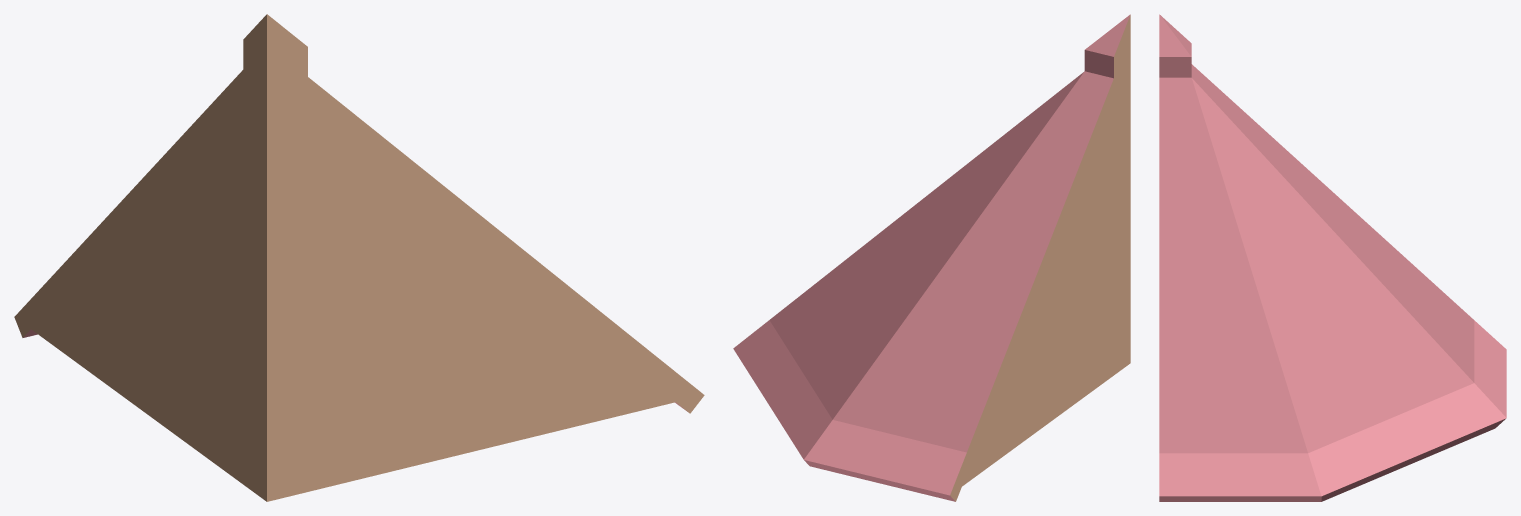
The model's file is roofHighCornerRound.glb.
The picture shows the model from 3 angles, left to right: view 1: azimuth 30°, elevation 25°; view 2: azimuth 150°, elevation 25°; view 3: azimuth 270°, elevation 25°; orthographic projection. The views are drawn at different scales.
Visible parts, largest first — view 1: roofHighCornerRound; view 2: roofHighCornerRound; view 3: roofHighCornerRound.
Boxes of the visible parts, <box> form: roofHighCornerRound: <box>14,14,704,501</box>; roofHighCornerRound: <box>733,14,1130,501</box>; roofHighCornerRound: <box>1159,14,1506,501</box>.
Size of the model in its own units: 1.07 by 1.18 by 1.07.
